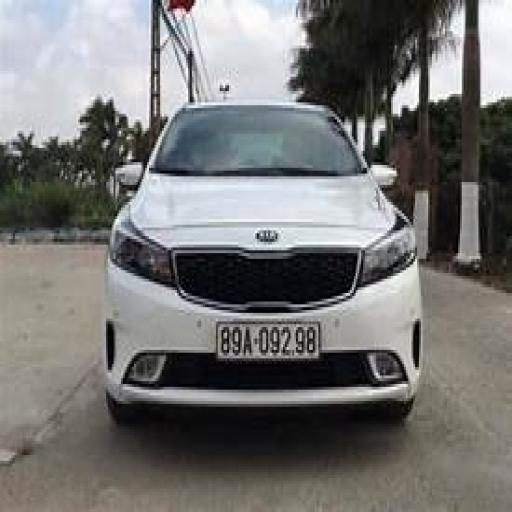place: (220, 326, 320, 358)
